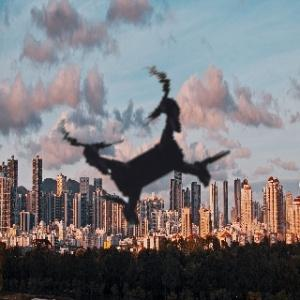drone: (7, 20, 281, 294)
